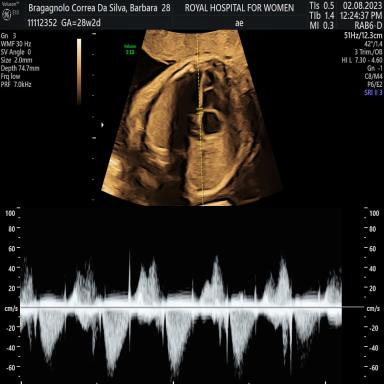Ultrasound-Waves: (25, 214, 340, 384)
